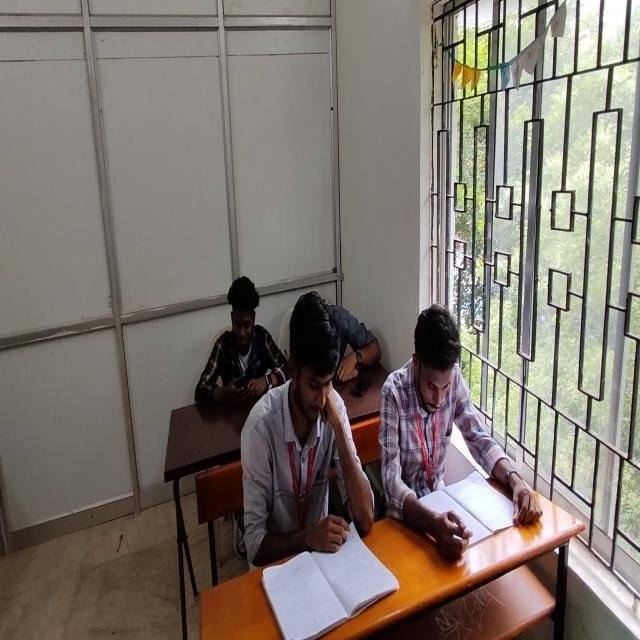reading: (240, 288, 372, 574), (389, 307, 532, 557)
sleeping: (315, 298, 379, 386)
using_mobile: (193, 275, 286, 404)
